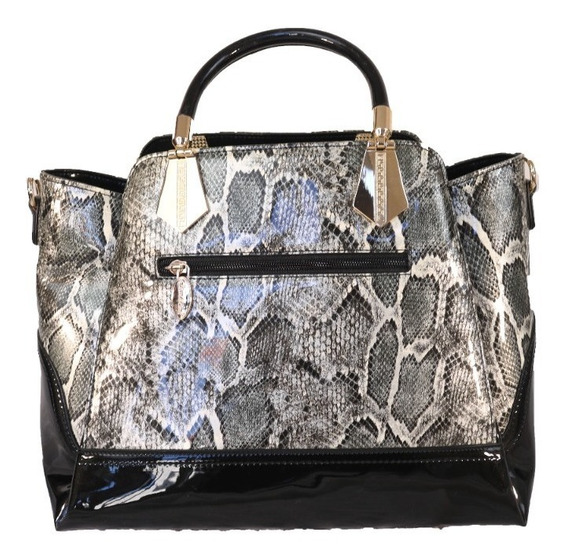cartera: (27, 25, 542, 531)
